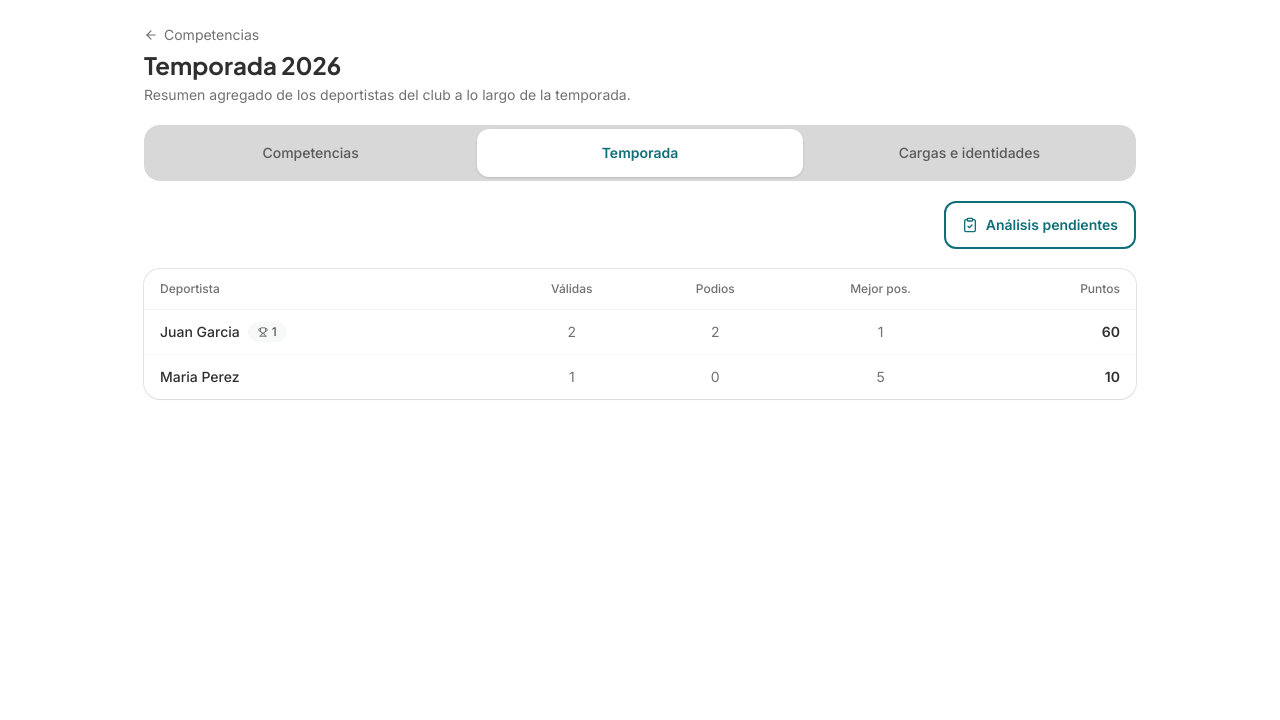
Test: SeasonInsightsPage — análisis pendientes (feature 045, US5) › abrir el panel, cambiar de modo y ocultarlo mantiene la URL sincronizada
The width and height of the screenshot is (1280, 720).
Click the button with test id "open-pending-analyses".
click(1040, 225)  # box [944,201,1136,249]
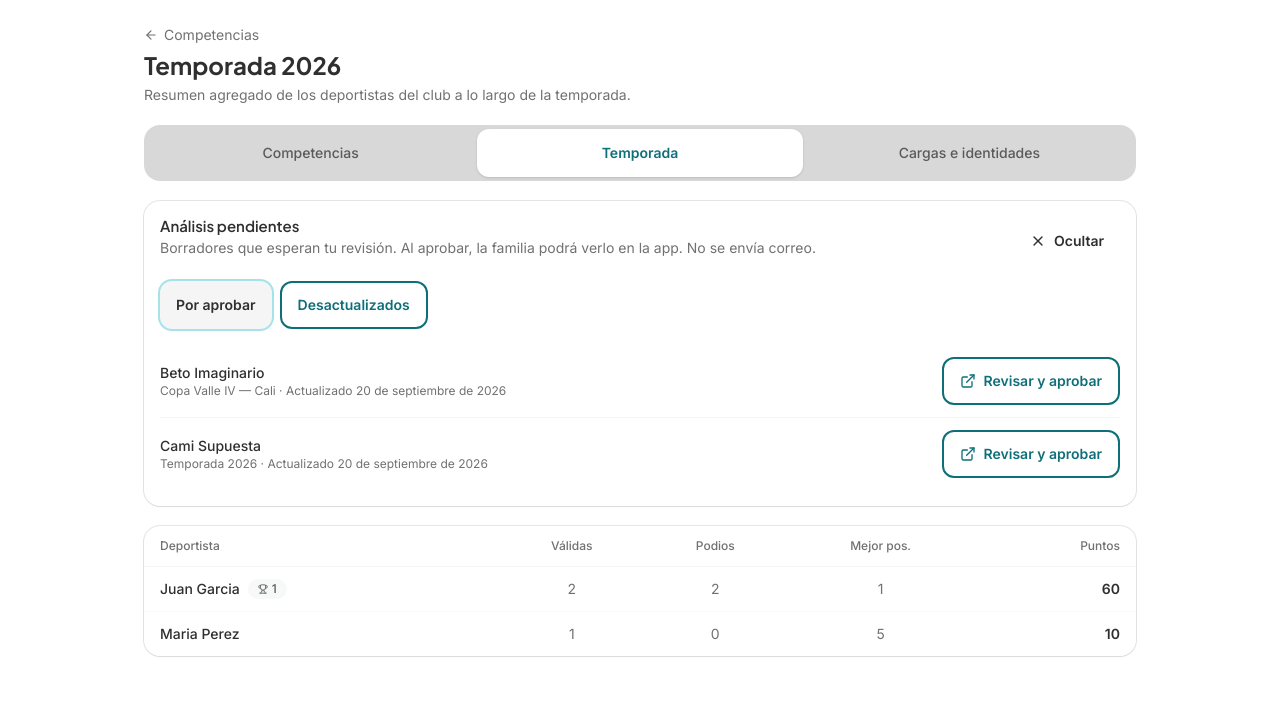
Click the button with test id "pending-mode-desactualizados".
click(354, 305)  # box [280,281,428,329]
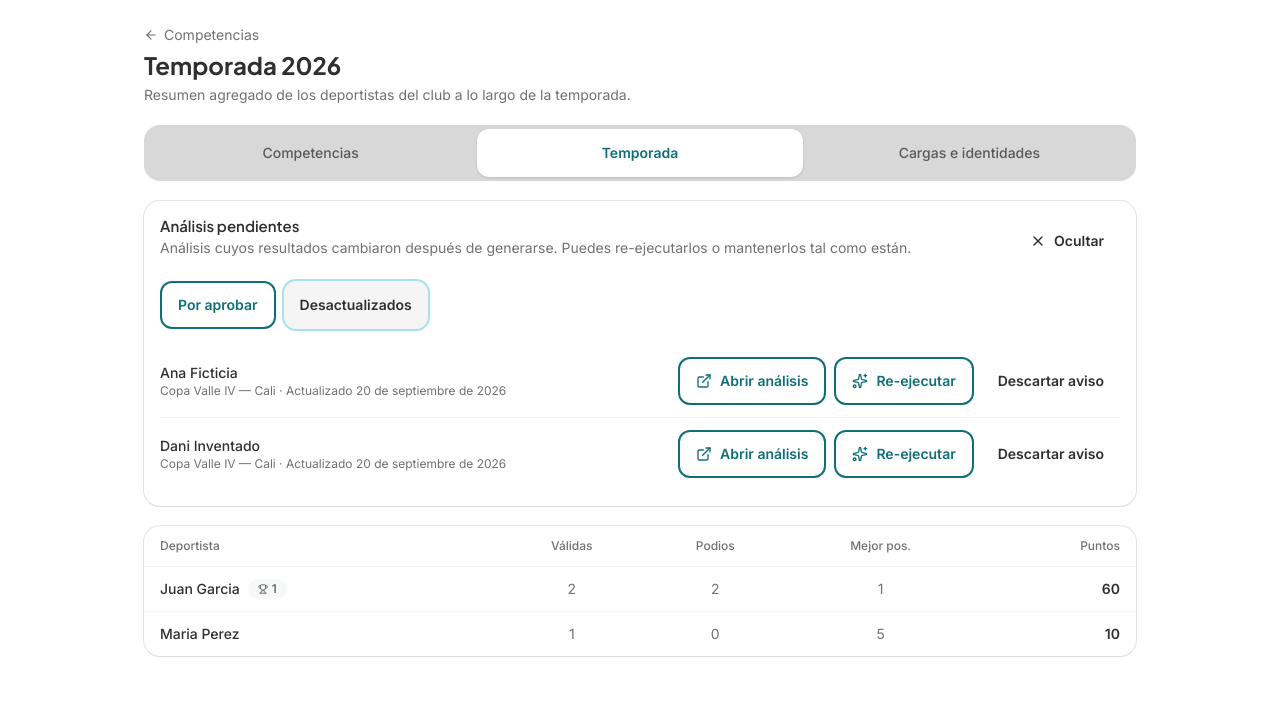
Expected: the text "Ana Ficticia" is shown, [160,364,238,381]
Click the button with test id "pending-analyses-close".
click(1067, 241)  # box [1014,217,1120,265]
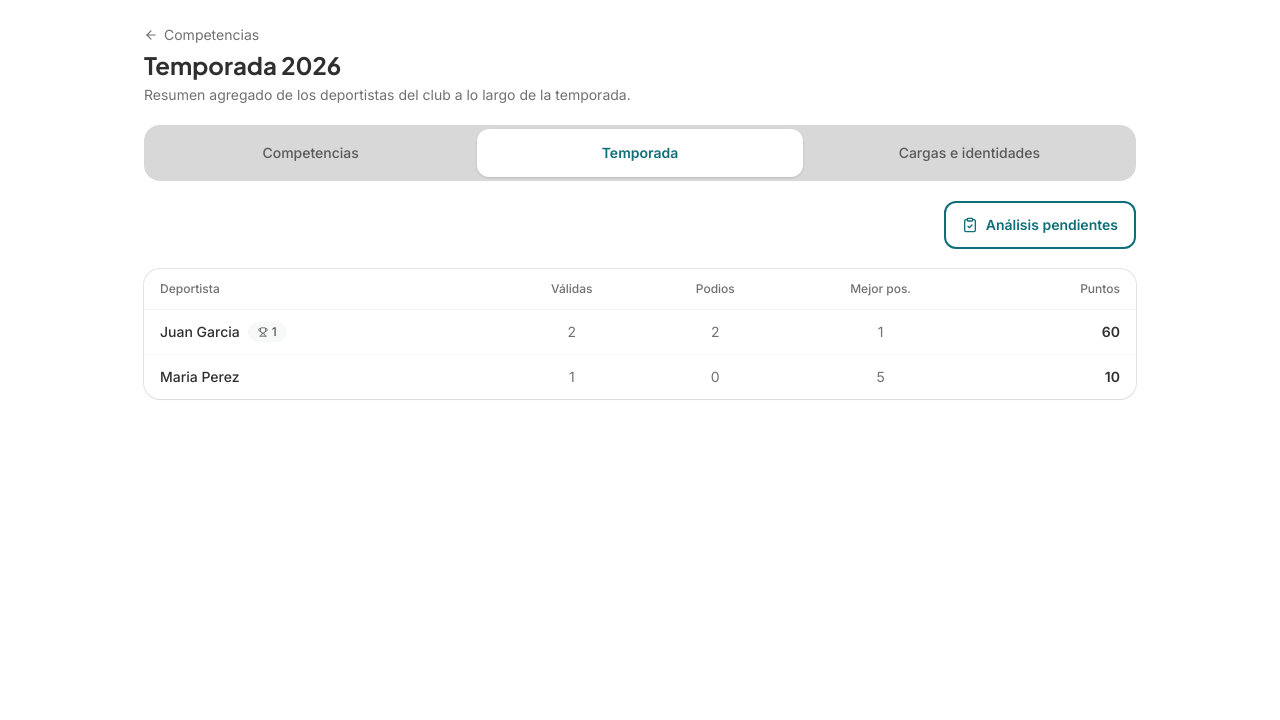
Expected: the button with test id "open-pending-analyses" is shown, [944,201,1136,249]
Expected: the element with test id "pending-analyses-panel" is gone
